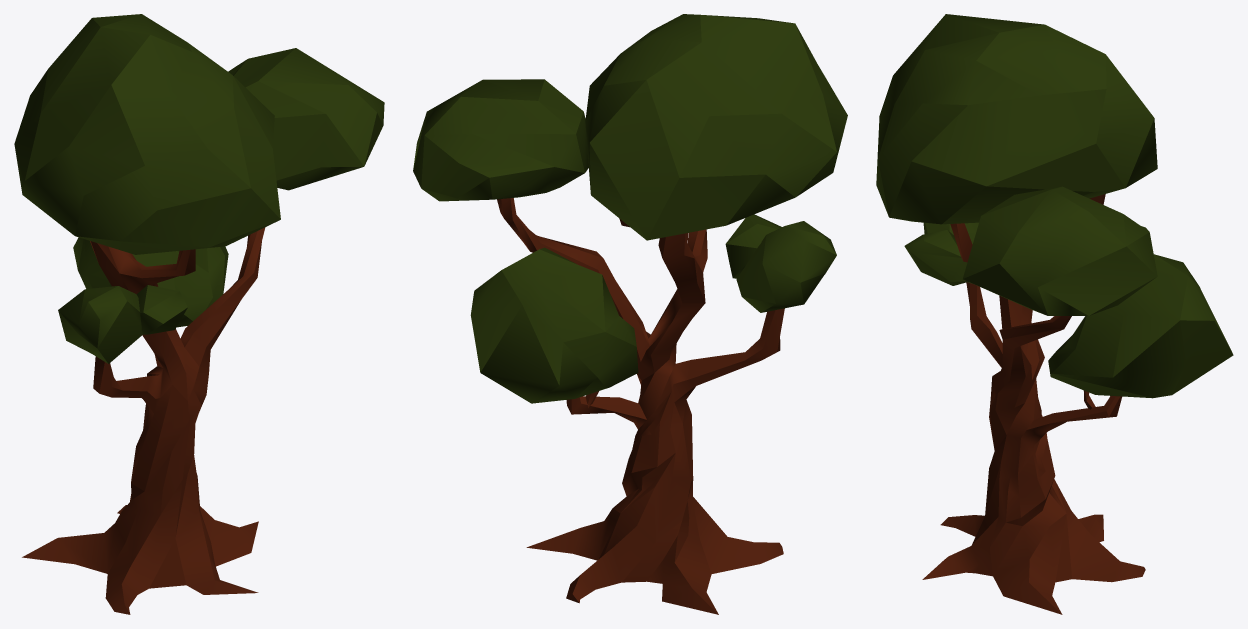
Rendered from Tree_4b_2.fbx.
3 views of the same model, side by side, from view 1: azimuth 30°, elevation 25°; view 2: azimuth 150°, elevation 25°; view 3: azimuth 270°, elevation 25° (orthographic). The views are drawn at different scales.
Visible parts, largest first — view 1: Tree_4b_2; view 2: Tree_4b_2; view 3: Tree_4b_2.
Boxes of the visible parts, <box> form: Tree_4b_2: <box>14,14,384,614</box>; Tree_4b_2: <box>413,14,847,614</box>; Tree_4b_2: <box>876,14,1233,614</box>.
Bounding box in the file's own units: 167 × 224 × 140.
